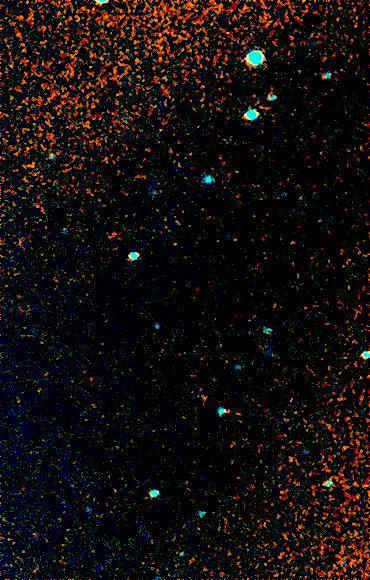star: (213, 398, 243, 428)
